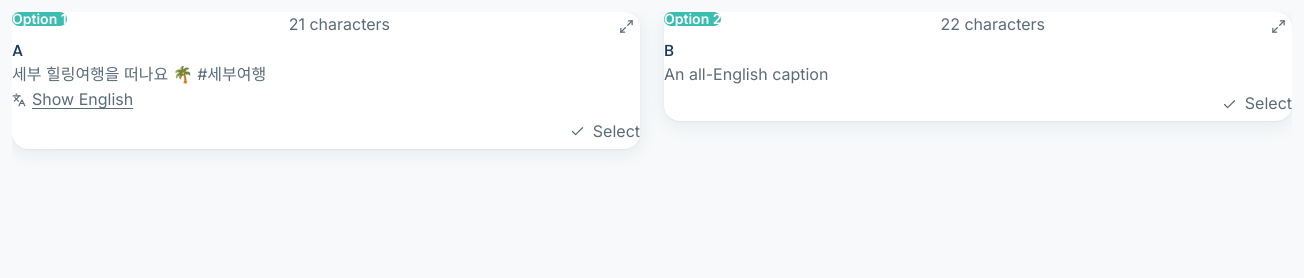
Test: CaptionOptionGrid — Show English › keeps the expanded view open when its toggle is used
Click the button named "Read A in full". click: (626, 26)
box: [612, 12, 640, 40]
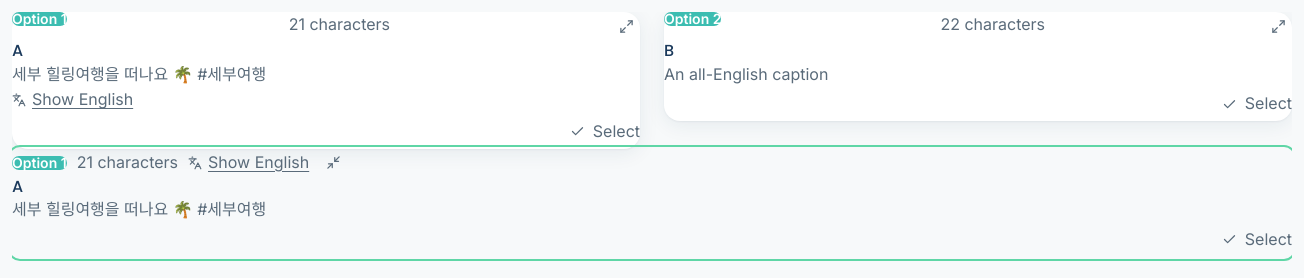
Click the 2nd button "Show English". click: (249, 163)
box: [188, 150, 309, 175]
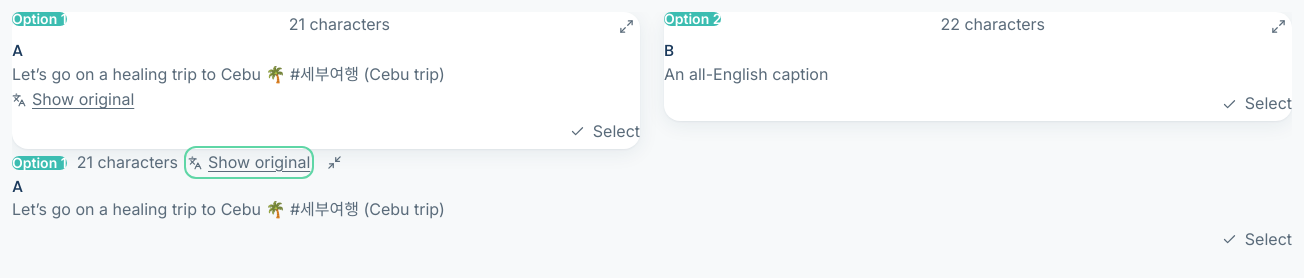
Result: the element that starts with "Option" is shown at [12, 149, 1292, 257]
Result: the element that starts with "Option" shows "healing trip to Cebu" at [12, 199, 445, 219]
